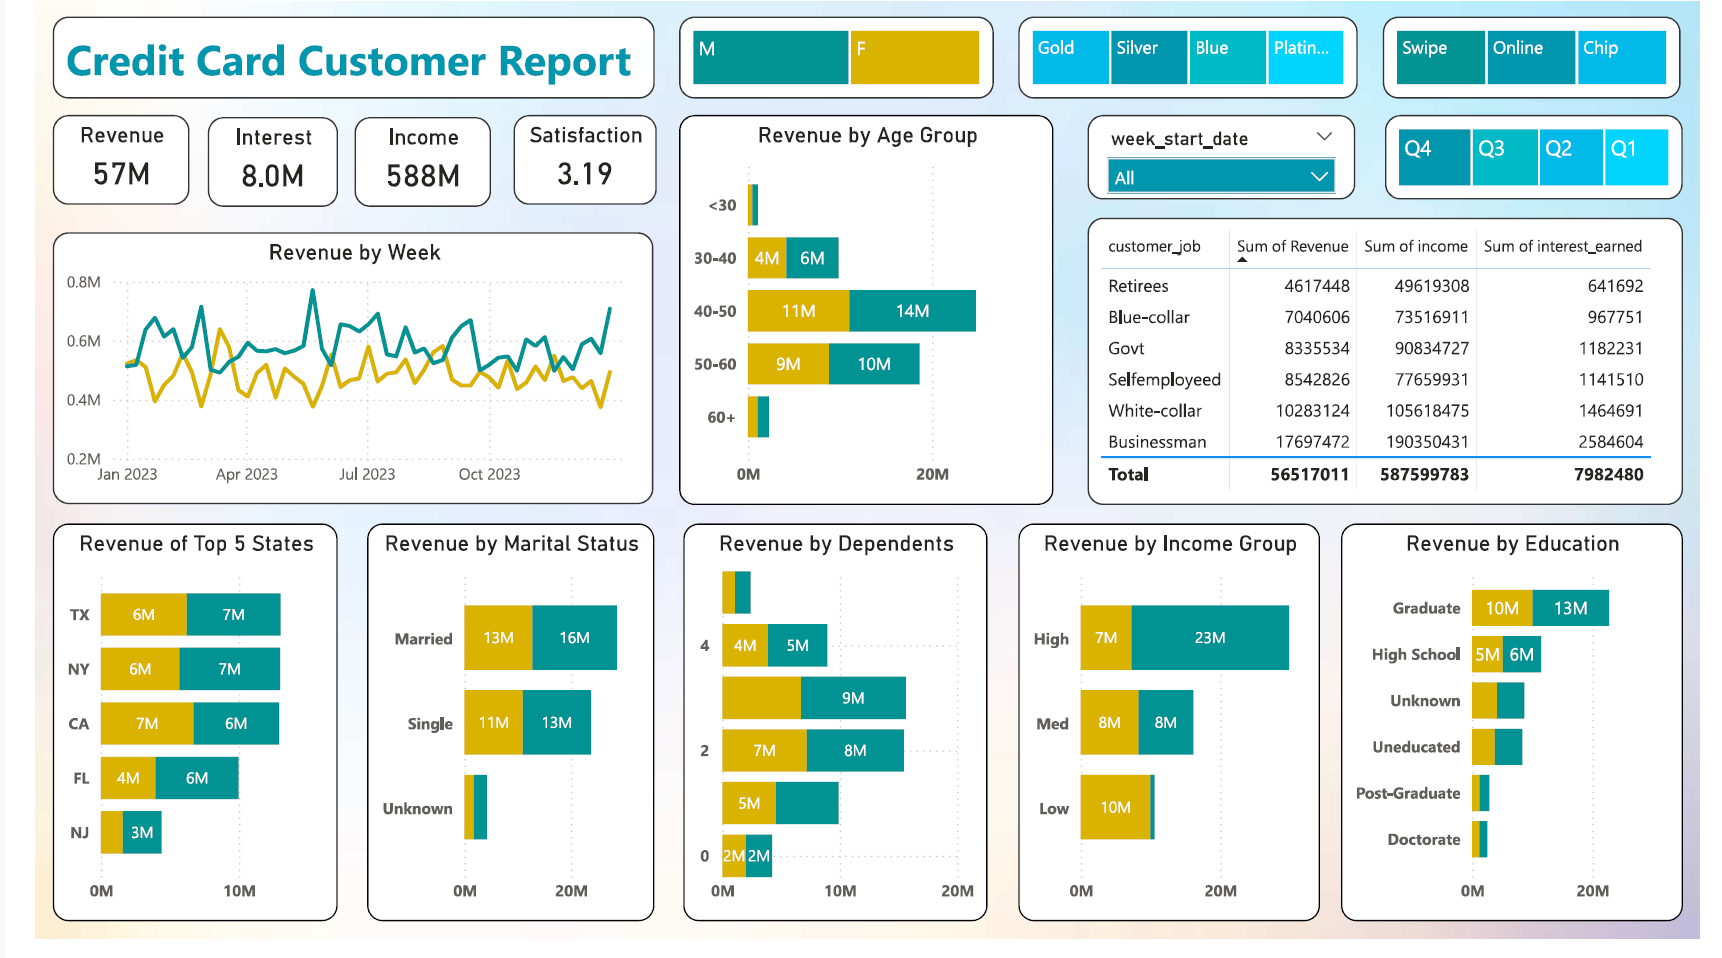

What the dashboard file says about the page in this screenshot:
{"tool":"powerbi","page":{"name":"CC Customer","canvas":[1280,720],"ordinal":1},"visuals":[{"type":"textbox","box":[12.9,11.3,463,62.8],"z":0},{"type":"barChart","title":"Revenue by Income Group","fields":{"Y":["Sum(public cc_detail.Revenue)"],"Category":["public cust_detail.IncomeGroup"],"Series":["public cust_detail.gender"]},"box":[755.8,401.2,232,306.2],"z":1000},{"type":"tableEx","fields":{"Values":["public cust_detail.customer_job","Sum(public cc_detail.Revenue)","Sum(public cust_detail.income)","Sum(public cc_detail.interest_earned)"]},"box":[808.9,166,457.6,220.8],"z":2000},{"type":"card","title":"Revenue","fields":{"Values":["Sum(public cc_detail.Revenue)"]},"box":[12.9,87,104.7,69.3],"z":3000},{"type":"card","title":"Interest","fields":{"Values":["Sum(public cc_detail.interest_earned)"]},"box":[132.1,88.6,99.9,69.3],"z":4000},{"type":"card","title":"Income","fields":{"Values":["Sum(public cust_detail.income)"]},"box":[244.9,88.6,104.7,69.3],"z":5000},{"type":"card","title":"Satisfaction","fields":{"Values":["Avg(public cust_detail.cust_satisfaction_score)"]},"box":[367.4,87,109.6,69.3],"z":6000},{"type":"slicer","fields":{"Values":["public cc_detail.week_start_date"]},"box":[808.9,87,206.3,65],"z":7000},{"type":"treemap","fields":{"Group":["public cc_detail.qtr"],"Values":["Avg(public cc_detail.client_num)"]},"box":[1037.8,87,228.8,65],"z":8000},{"type":"treemap","fields":{"Group":["public cc_detail.card_category"],"Values":["Avg(public cc_detail.client_num)"]},"box":[755.8,11.3,261.1,62.8],"z":9000},{"type":"lineChart","title":"Revenue by Week","fields":{"Y":["Sum(public cc_detail.Revenue)"],"Category":["public cc_detail.week_start_date.Variation.Date Hierarchy.Year","public cc_detail.week_start_date.Variation.Date Hierarchy.Month","public cc_detail.week_start_date.Variation.Date Hierarchy.Day"],"Series":["public cust_detail.gender"]},"box":[12.9,177.3,462.5,209.5],"z":10000},{"type":"treemap","fields":{"Group":["public cust_detail.gender"],"Values":["Sum(public cc_detail.Revenue)"]},"box":[494.7,11.3,241.7,62.8],"z":11000},{"type":"barChart","title":"Revenue by Age Group","fields":{"Y":["Sum(public cc_detail.Revenue)"],"Category":["public cust_detail.AgeGroup"],"Series":["public cust_detail.gender"]},"box":[494.7,87,288.4,299.7],"z":12000},{"type":"barChart","title":"Revenue by Dependents","fields":{"Y":["Sum(public cc_detail.Revenue)"],"Category":["public cust_detail.dependent_count"],"Series":["public cust_detail.gender"]},"box":[497.9,401.2,233.7,306.2],"z":13000},{"type":"barChart","title":"Revenue by Marital Status","fields":{"Y":["Sum(public cc_detail.Revenue)"],"Category":["public cust_detail.marital_status"],"Series":["public cust_detail.gender"]},"box":[254.6,401.2,220.8,306.2],"z":14000},{"type":"barChart","title":"Revenue of Top 5 States","fields":{"Y":["Sum(public cc_detail.Revenue)"],"Category":["public cust_detail.state_cd"],"Series":["public cust_detail.gender"]},"box":[12.9,401.2,219.2,306.2],"z":15000},{"type":"barChart","title":"Revenue by Education","fields":{"Y":["Sum(public cc_detail.Revenue)"],"Category":["public cust_detail.education_level"],"Series":["public cust_detail.gender"]},"box":[1003.9,401.2,262.7,306.2],"z":16000},{"type":"treemap","fields":{"Group":["public cc_detail.use_chip"],"Values":["Avg(public cc_detail.client_num)"]},"box":[1036.1,11.3,228.8,62.8],"z":17000}]}

Visuals, with their boxes in screenshot pixels (x1, y1, x2, y2), scaled from the page's 1280x720 canvas onto the 1722x958 screenshot:
textbox: <box>17,15,640,99</box>
"Revenue by Income Group" barChart: <box>1017,534,1329,941</box>
tableEx - public cust_detail.customer_job x Sum(public cc_detail.Revenue): <box>1088,221,1704,515</box>
"Revenue" card: <box>17,116,158,208</box>
"Interest" card: <box>178,118,312,210</box>
"Income" card: <box>329,118,470,210</box>
"Satisfaction" card: <box>494,116,642,208</box>
slicer - public cc_detail.week_start_date: <box>1088,116,1366,202</box>
treemap - public cc_detail.qtr x Avg(public cc_detail.client_num): <box>1396,116,1704,202</box>
treemap - public cc_detail.card_category x Avg(public cc_detail.client_num): <box>1017,15,1368,99</box>
"Revenue by Week" lineChart: <box>17,236,640,515</box>
treemap - public cust_detail.gender x Sum(public cc_detail.Revenue): <box>666,15,991,99</box>
"Revenue by Age Group" barChart: <box>666,116,1054,515</box>
"Revenue by Dependents" barChart: <box>670,534,984,941</box>
"Revenue by Marital Status" barChart: <box>343,534,640,941</box>
"Revenue of Top 5 States" barChart: <box>17,534,312,941</box>
"Revenue by Education" barChart: <box>1351,534,1704,941</box>
treemap - public cc_detail.use_chip x Avg(public cc_detail.client_num): <box>1394,15,1702,99</box>
